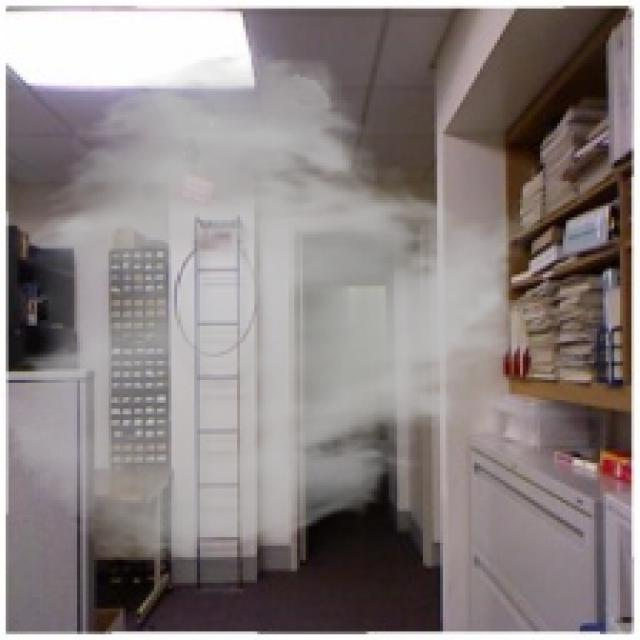smoke: (0, 49, 543, 568)
